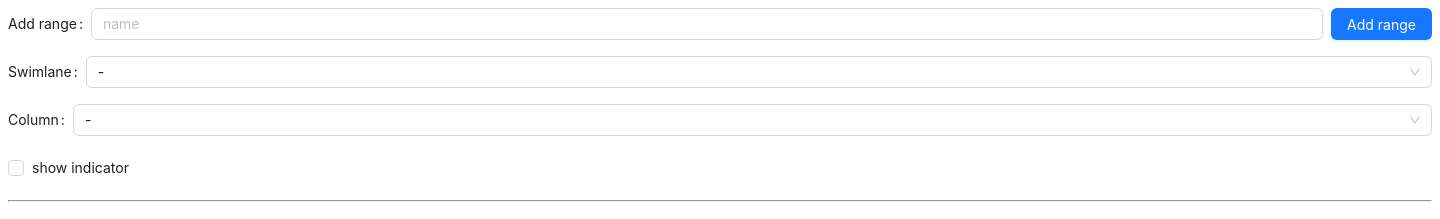
RangeForm › Add range / Add cell mode switching › should show "Add cell" button when range name matches existing range
The width and height of the screenshot is (1440, 219).
Type "Critical Path" into the field with id "WIP_inputRange".
click(707, 24); type("Critical Path")  # box [91,8,1323,40]
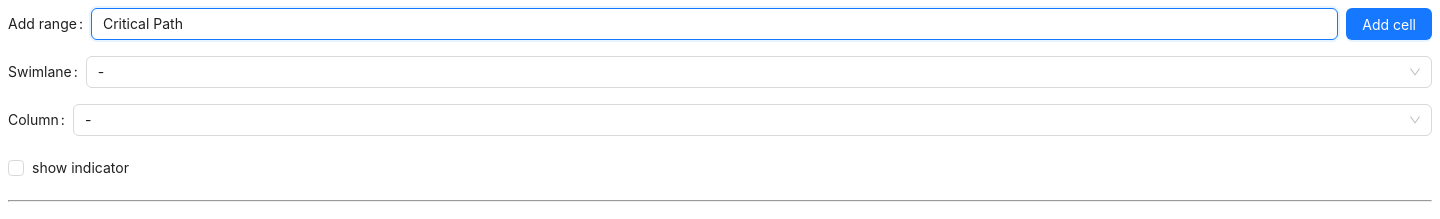
Expected: the text with id "WIP_buttonRange" reads "Add cell", [1362,16,1416,33]
